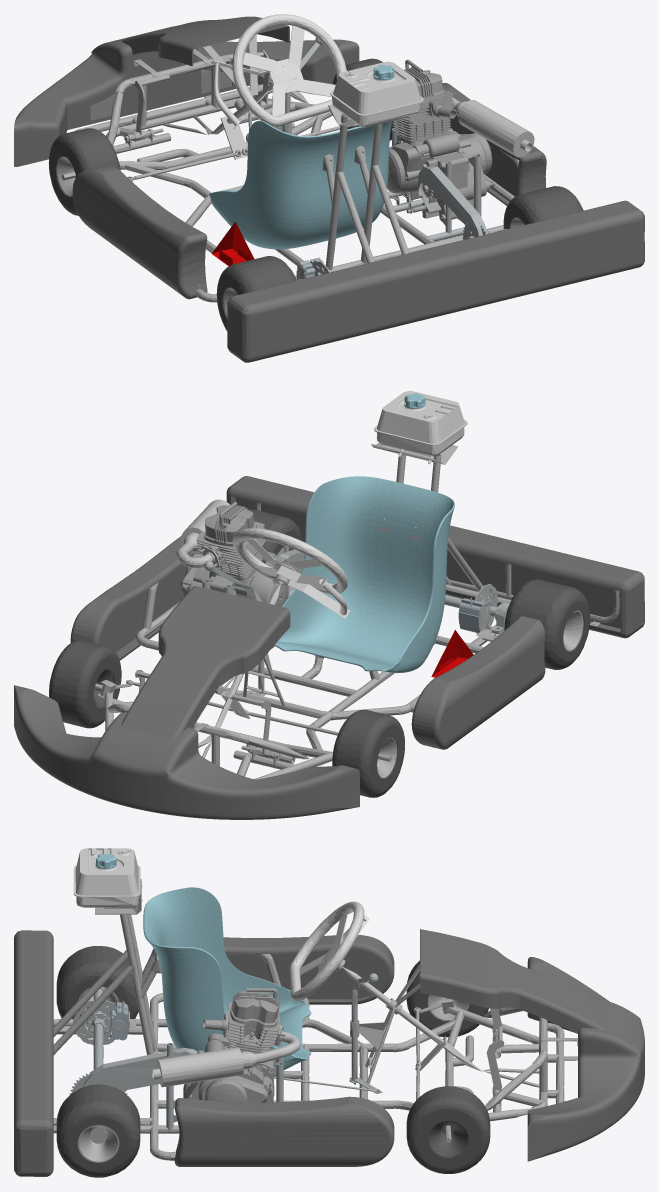
Rendered from kart.glb.
3 views of the same model, one above another, from view 1: azimuth 30°, elevation 25°; view 2: azimuth 150°, elevation 25°; view 3: azimuth 270°, elevation 25° (orthographic).
Visible parts, largest first — view 1: obj_7, obj_415, obj_11, obj_185, obj_145, obj_3, obj_149, obj_121, obj_9, obj_197, obj_213, obj_219 (+17 smaller); view 2: obj_415, obj_11, obj_3, obj_7, obj_185, obj_9, obj_145, obj_199, obj_193, obj_197, obj_149, obj_121 (+14 smaller); view 3: obj_9, obj_415, obj_11, obj_7, obj_3, obj_185, obj_145, obj_195, obj_199, obj_193, obj_149, obj_219 (+22 smaller).
Part boxes in pixels (x1,y1,x2,y2): obj_7: [227, 200, 644, 362]; obj_415: [209, 120, 391, 249]; obj_11: [14, 26, 359, 166]; obj_185: [72, 165, 207, 299]; obj_145: [387, 59, 494, 221]; obj_3: [121, 16, 289, 66]; obj_149: [330, 61, 423, 116]; obj_121: [232, 14, 346, 126]; obj_9: [442, 83, 546, 205]; obj_197: [48, 128, 120, 215]; obj_213: [243, 25, 335, 116]; obj_219: [456, 100, 534, 157]; obj_415: [274, 476, 454, 673]; obj_11: [14, 685, 359, 819]; obj_3: [121, 586, 290, 739]; obj_7: [226, 476, 644, 638]; obj_185: [411, 616, 545, 749]; obj_9: [70, 536, 193, 660]; obj_145: [180, 502, 288, 606]; obj_199: [49, 640, 121, 728]; obj_193: [504, 579, 589, 669]; obj_197: [332, 709, 404, 797]; obj_149: [374, 391, 467, 445]; obj_121: [232, 528, 347, 594]; obj_9: [174, 1096, 394, 1166]; obj_415: [143, 887, 311, 1069]; obj_11: [527, 957, 644, 1161]; obj_7: [14, 930, 53, 1176]; obj_3: [420, 929, 607, 1033]; obj_185: [223, 935, 394, 1004]; obj_145: [183, 988, 285, 1102]; obj_195: [56, 1084, 140, 1177]; obj_199: [406, 1086, 490, 1173]; obj_193: [56, 946, 138, 1038]; obj_149: [73, 848, 140, 897]; obj_219: [151, 1047, 250, 1087].
Size of the model in its own units: 1400 by 787 by 1910.
